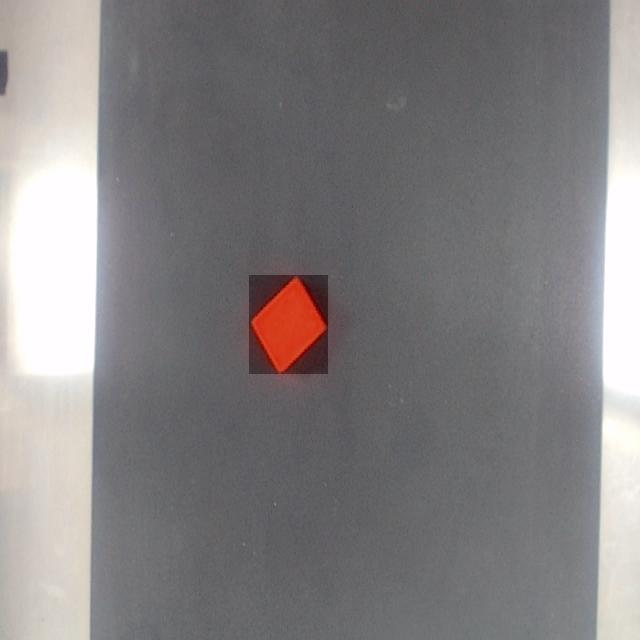Rojo: (249, 275, 328, 374)
